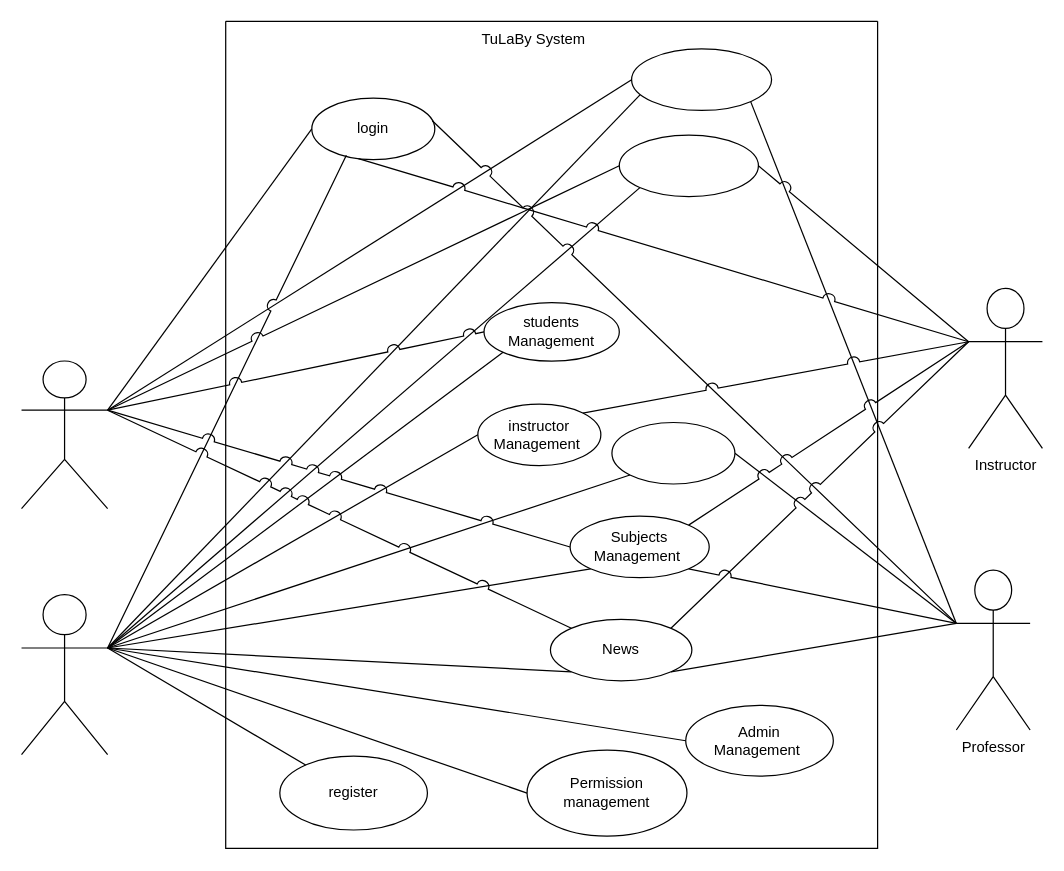
The diagram is 1064 pixels wide and 871 high, and some of its shapes have lost their labels. The shapes that lost their labels are listed below. From the top down, each one's centre as x and y in pixels, then its label:
At point (701, 79): "Lectures Management".
At point (688, 165): "Sessions Management".
At point (64, 434): "Student".
At point (673, 452): "Professor Management".
At point (64, 674): "Admin".
